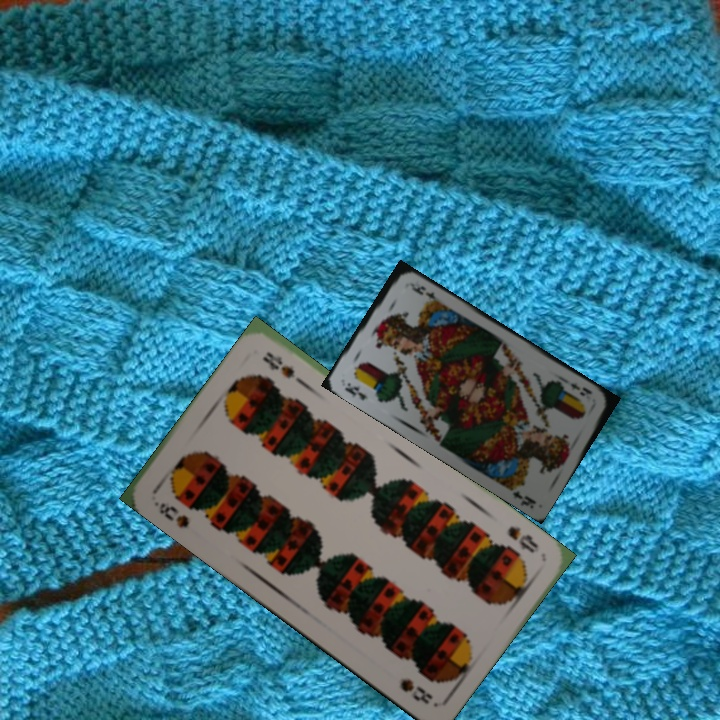EK: (341, 379, 370, 403), (566, 378, 594, 399)
S8: (149, 497, 192, 531), (503, 522, 542, 556)
